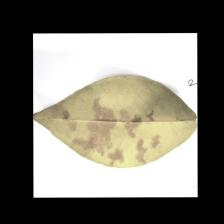black spot: (58, 96, 160, 160)
